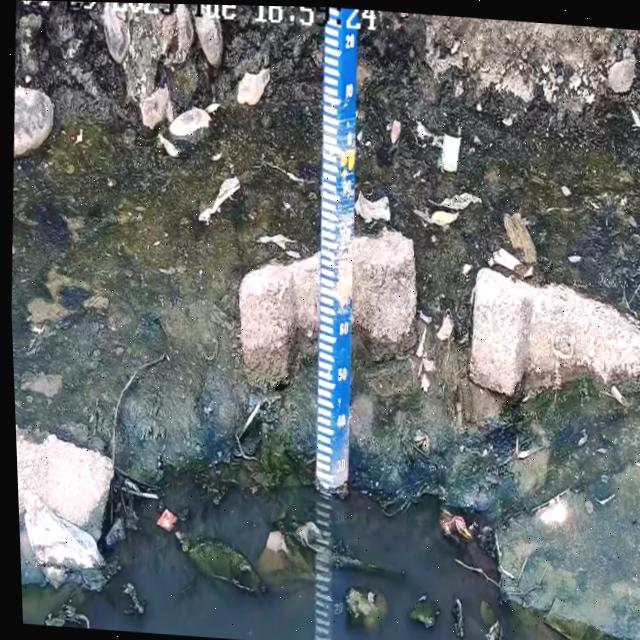water-meter: (290, 6, 382, 514)
